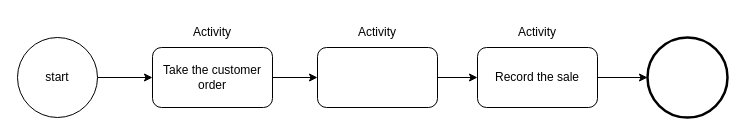
Some shapes in this 746 by 136 pixel diagram are drawn without their labels. The centre of each missing label's shape, as x and y in pixels:
End: [687,77]
Run the credit check: [377,77]
